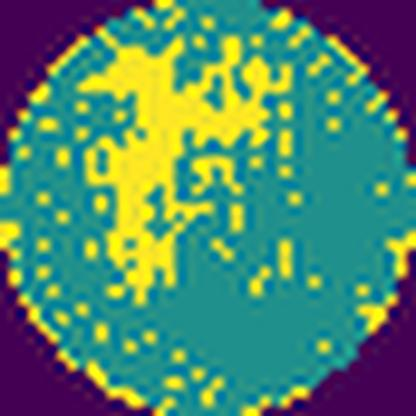Loc: (80, 37, 296, 307)
